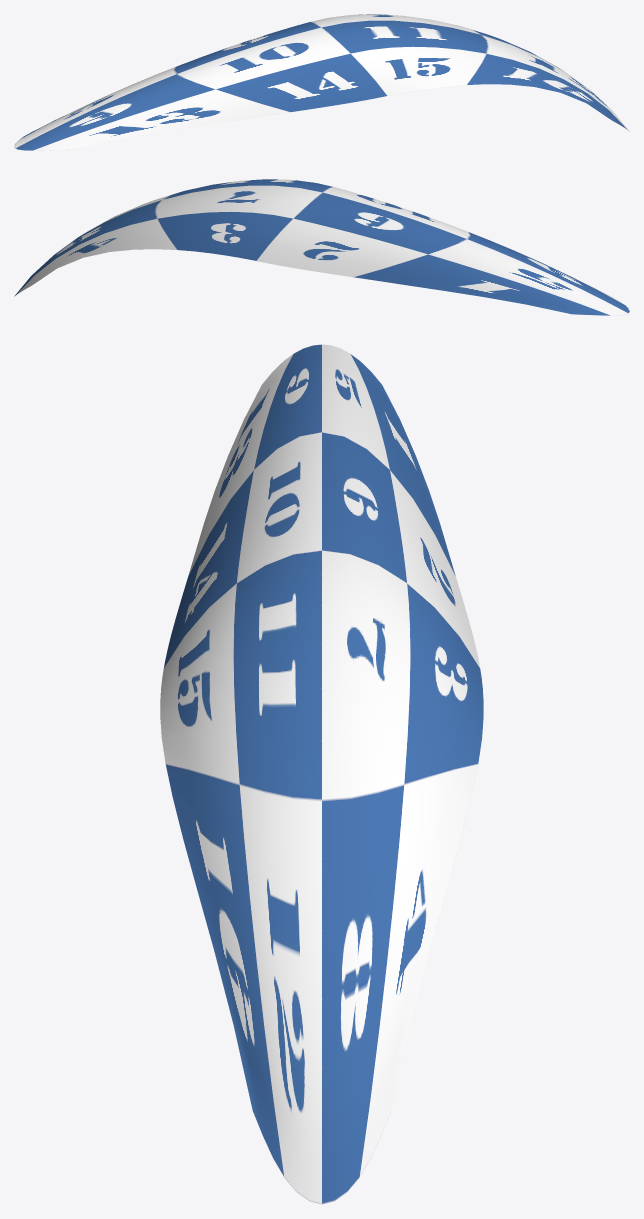
File: Wind4.fbx
The picture shows the model from 3 angles, top to bottom: view 1: azimuth 30°, elevation 25°; view 2: azimuth 150°, elevation 25°; view 3: azimuth 270°, elevation 25°; orthographic projection. The views are drawn at different scales.
Parts seen in each view (by area): view 1: SM_e_Useful_Wind004; view 2: SM_e_Useful_Wind004; view 3: SM_e_Useful_Wind004.
Part boxes in pixels (box(x1,y1,x2,y2)): SM_e_Useful_Wind004: box(14, 14, 629, 150); SM_e_Useful_Wind004: box(14, 179, 629, 315); SM_e_Useful_Wind004: box(160, 344, 483, 1204).
Size of the model in its own units: 94.28 by 26.1 by 21.55.
